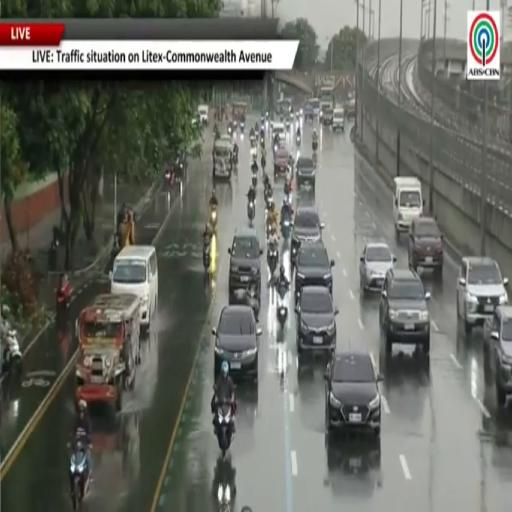bus: (319, 87, 334, 109), (277, 99, 291, 116)
car: (325, 351, 381, 438), (379, 268, 430, 356), (457, 256, 508, 333), (212, 306, 261, 380), (296, 286, 338, 354), (484, 306, 511, 407), (228, 228, 262, 303), (295, 242, 334, 301), (408, 217, 443, 274), (291, 206, 324, 265), (359, 241, 396, 292), (296, 156, 315, 190), (274, 147, 290, 179), (272, 122, 286, 141), (333, 107, 344, 131), (197, 104, 209, 126), (321, 107, 333, 125), (220, 134, 233, 147)
jeepney: (76, 294, 140, 410), (92, 412, 140, 497), (213, 138, 233, 179), (233, 102, 247, 131)
motorcycle: (70, 440, 89, 510), (0, 322, 22, 377), (213, 458, 236, 510), (216, 400, 233, 457), (56, 286, 70, 329), (245, 285, 259, 322), (277, 285, 287, 329), (267, 246, 278, 277), (282, 217, 291, 241), (210, 205, 217, 233), (203, 244, 210, 271), (264, 189, 273, 210), (248, 201, 255, 225), (284, 183, 291, 204), (266, 218, 271, 239), (350, 125, 355, 142), (312, 152, 317, 167), (252, 172, 257, 187), (233, 120, 238, 133), (233, 152, 238, 165), (312, 141, 317, 153), (260, 115, 265, 126), (260, 137, 264, 150), (228, 125, 233, 135), (240, 122, 244, 134), (296, 135, 300, 147), (296, 111, 301, 120), (286, 119, 290, 130), (265, 111, 269, 120)
truck: (319, 87, 334, 118)
